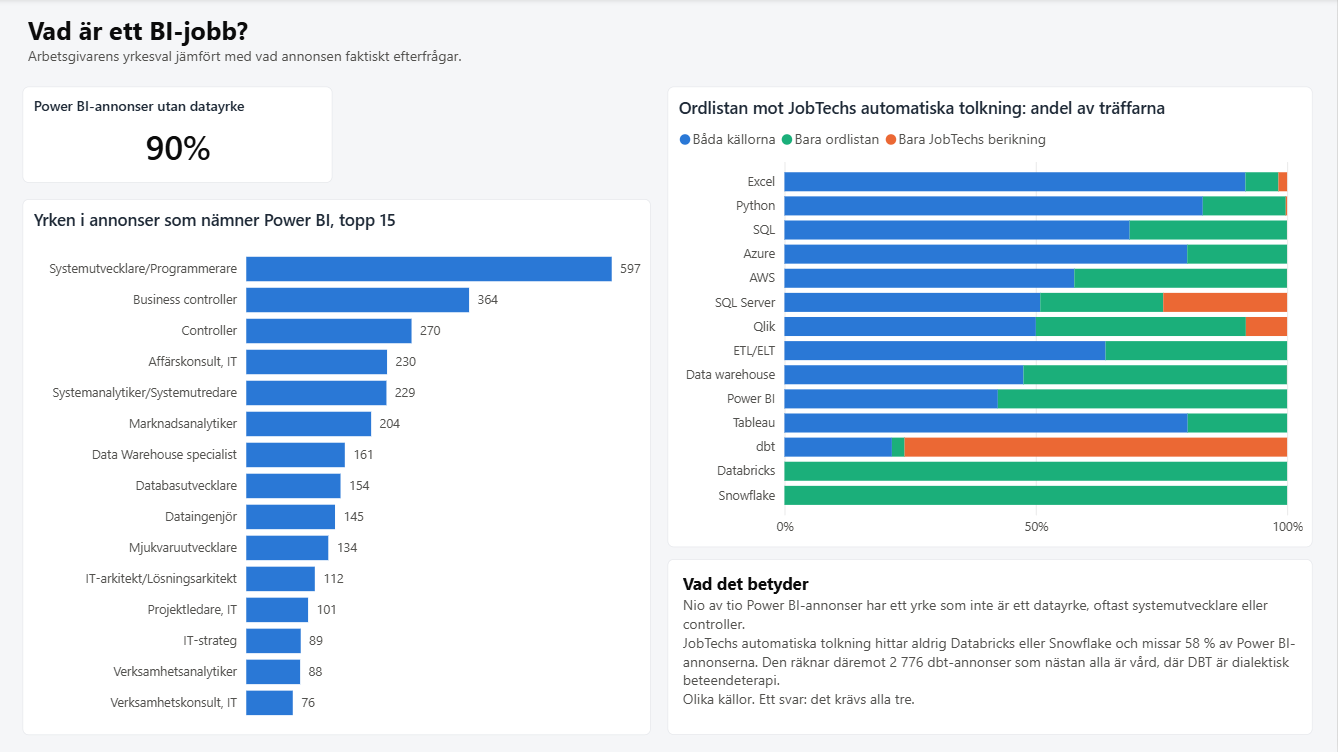

What the dashboard file says about the page in this screenshot:
{"tool":"powerbi","page":{"name":"Vad är ett BI-jobb","canvas":[1280,720],"ordinal":3},"visuals":[{"type":"textbox","box":[24,8,900,64],"z":0},{"type":"card","title":"Power BI-annonser utan datayrke","fields":{"Values":["Mått.Power BI-annonser utan datayrke"]},"box":[24,84,296,92],"z":1},{"type":"clusteredBarChart","title":"Yrken i annonser som nämner Power BI, topp 15","fields":{"Category":["Yrke.Yrke"],"Y":["Mått.Annonser med term"]},"box":[24,192,600,512],"z":2},{"type":"hundredPercentStackedBarChart","title":"Ordlistan mot JobTechs automatiska tolkning: andel av träffarna","fields":{"Category":["Term.Term"],"Y":["Mått.Båda källorna","Mått.Bara ordlistan","Mått.Bara JobTechs berikning"]},"box":[640,84,616,440],"z":3},{"type":"textbox","box":[640,536,616,168],"z":4}]}

Visuals, with their boxes in screenshot pixels (x1, y1, x2, y2), scaled from the page's 1280x720 canvas onto the 1338x752 screenshot:
textbox: 25 8 966 75
"Power BI-annonser utan datayrke" card: 25 88 334 184
"Yrken i annonser som nämner Power BI, topp 15" clusteredBarChart: 25 201 652 735
"Ordlistan mot JobTechs automatiska tolkning: andel av träffarna" hundredPercentStackedBarChart: 669 88 1313 547
textbox: 669 560 1313 735
